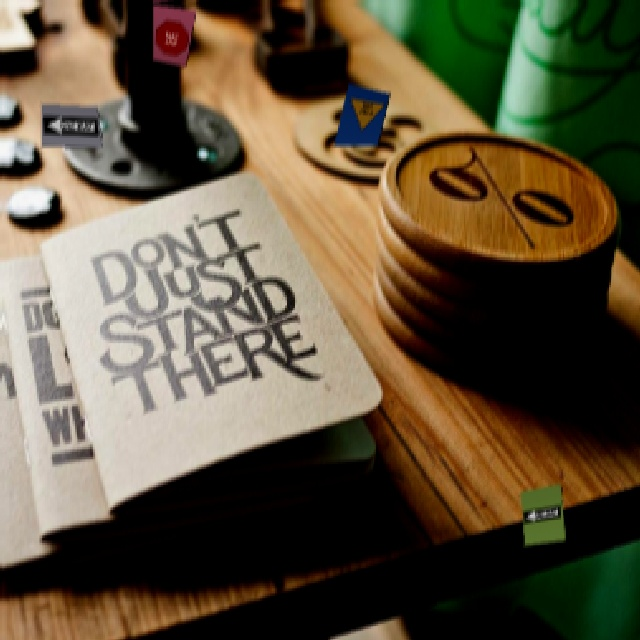FAKE_STOP: (149, 16, 188, 55)
NOT_YIELD: (339, 95, 382, 131)
ONE_WAY_ left: (40, 113, 96, 132), (520, 501, 558, 523)
